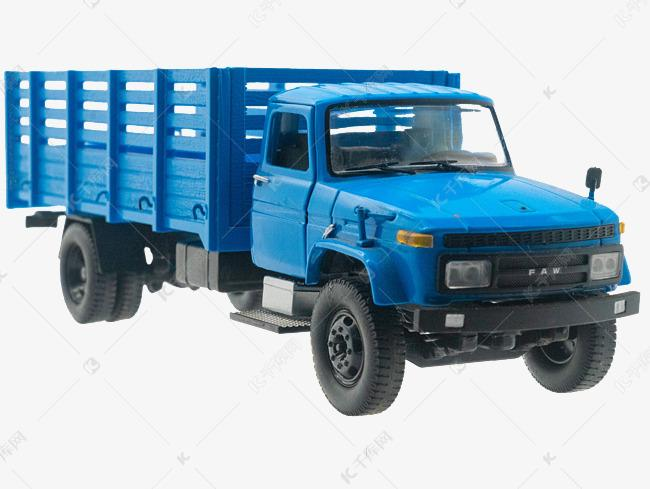truck: (2, 39, 642, 420)
